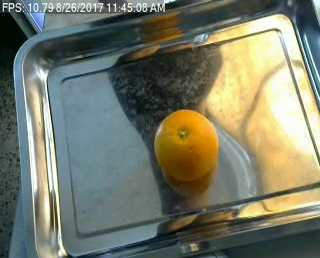Orange: (153, 108, 218, 181)
